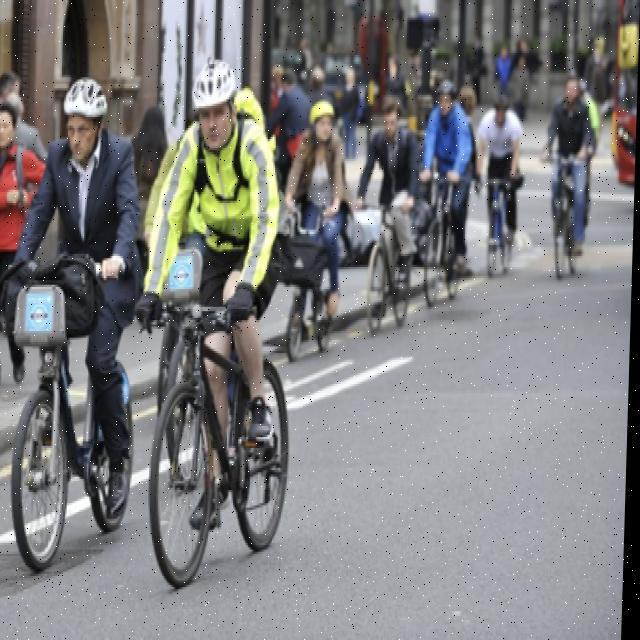Helmet: (187, 49, 242, 152), (55, 70, 114, 166)
